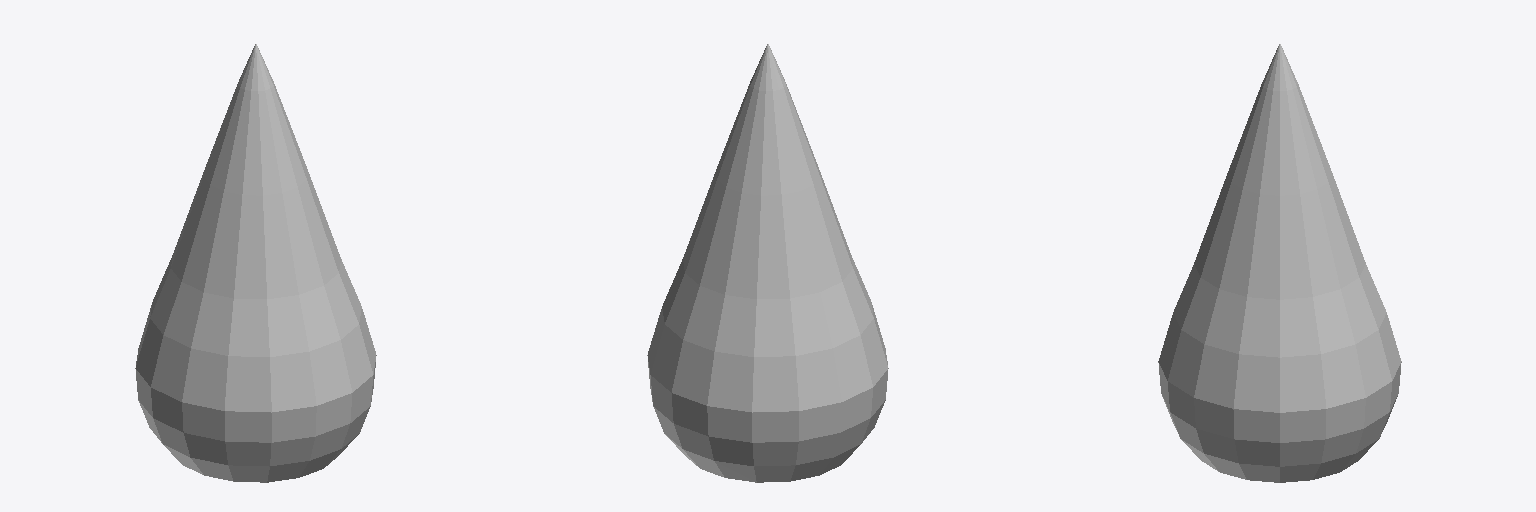
The model's file is teardrop.obj.
3 views of the same model, side by side, from view 1: azimuth 30°, elevation 25°; view 2: azimuth 150°, elevation 25°; view 3: azimuth 270°, elevation 25° (orthographic).
Visible parts, largest first — view 1: Cylinder; view 2: Cylinder; view 3: Cylinder.
Boxes of the visible parts, x1=… form: Cylinder: x1=135, y1=44, x2=376, y2=482; Cylinder: x1=647, y1=44, x2=888, y2=482; Cylinder: x1=1158, y1=44, x2=1401, y2=482.
Size of the model in its own units: 0.2754 by 0.5334 by 0.2754.